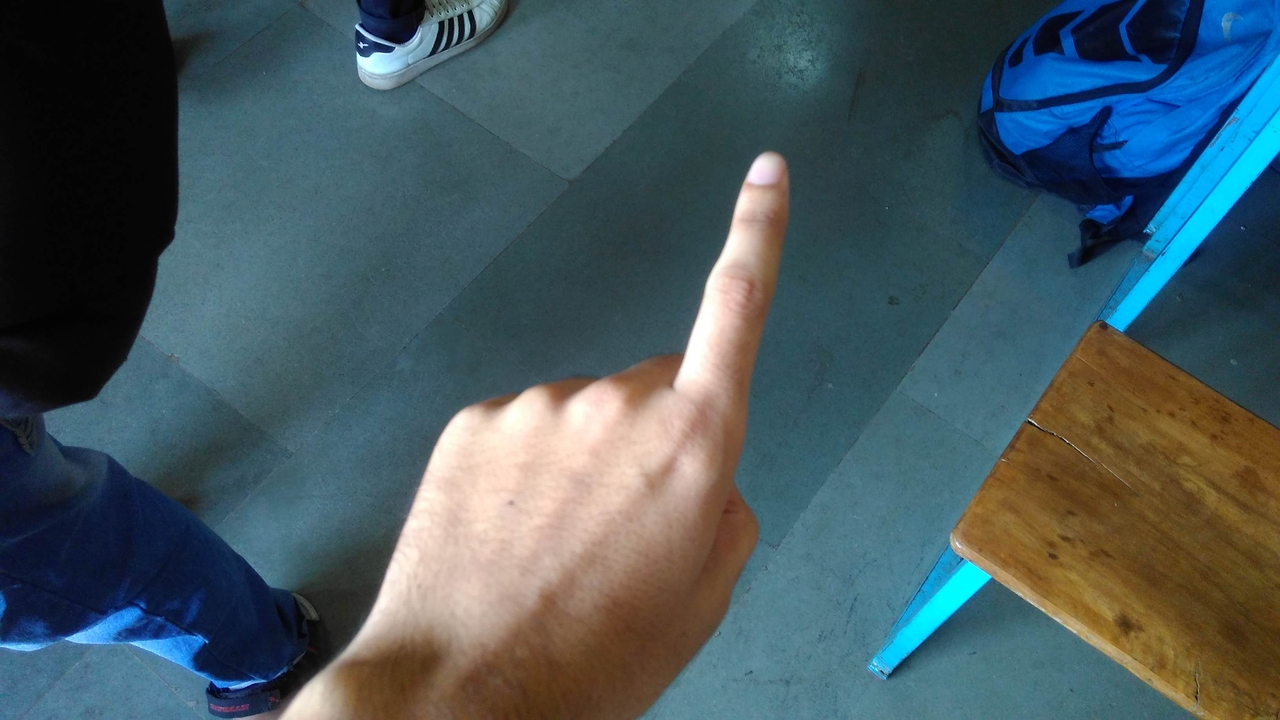fingertip: (734, 142, 798, 200)
